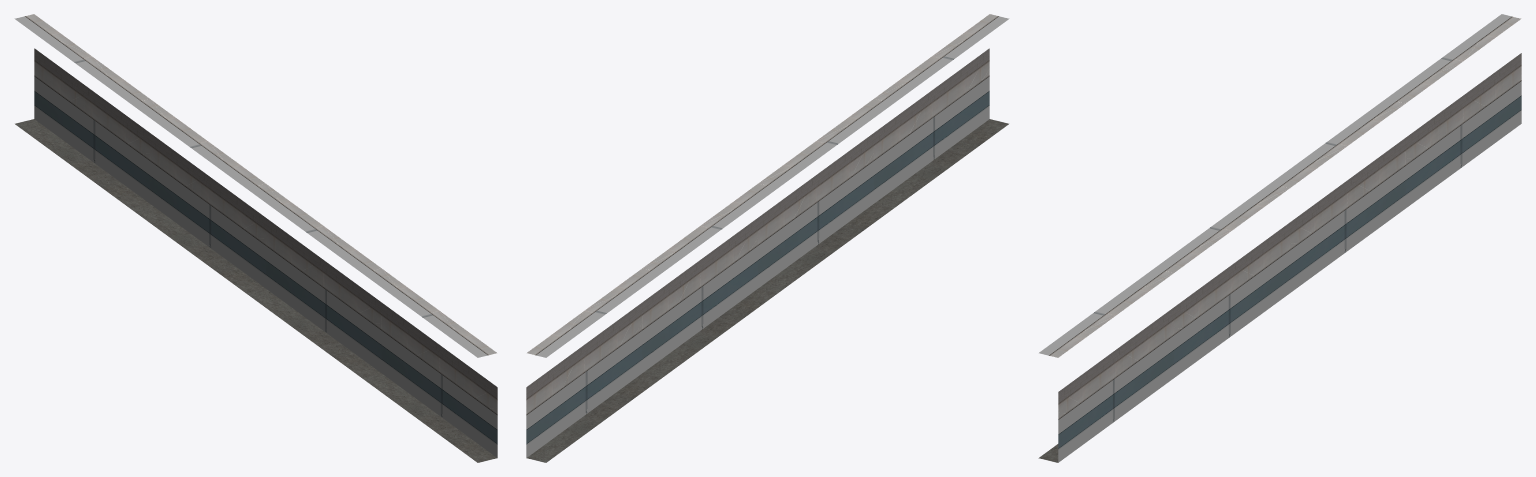
The model's file is median_lod.fbx.
3 views of the same model, side by side, from view 1: azimuth 30°, elevation 25°; view 2: azimuth 150°, elevation 25°; view 3: azimuth 330°, elevation 25° (orthographic).
Visible parts, largest first — view 1: Tunnel_lod.004; view 2: Tunnel_lod.004; view 3: Tunnel_lod.004.
Part boxes in pixels (bbox=[...]): Tunnel_lod.004: bbox=[14, 14, 497, 462]; Tunnel_lod.004: bbox=[526, 14, 1009, 462]; Tunnel_lod.004: bbox=[1038, 14, 1521, 462].
Size of the model in its own units: 158 by 800 by 6400.
